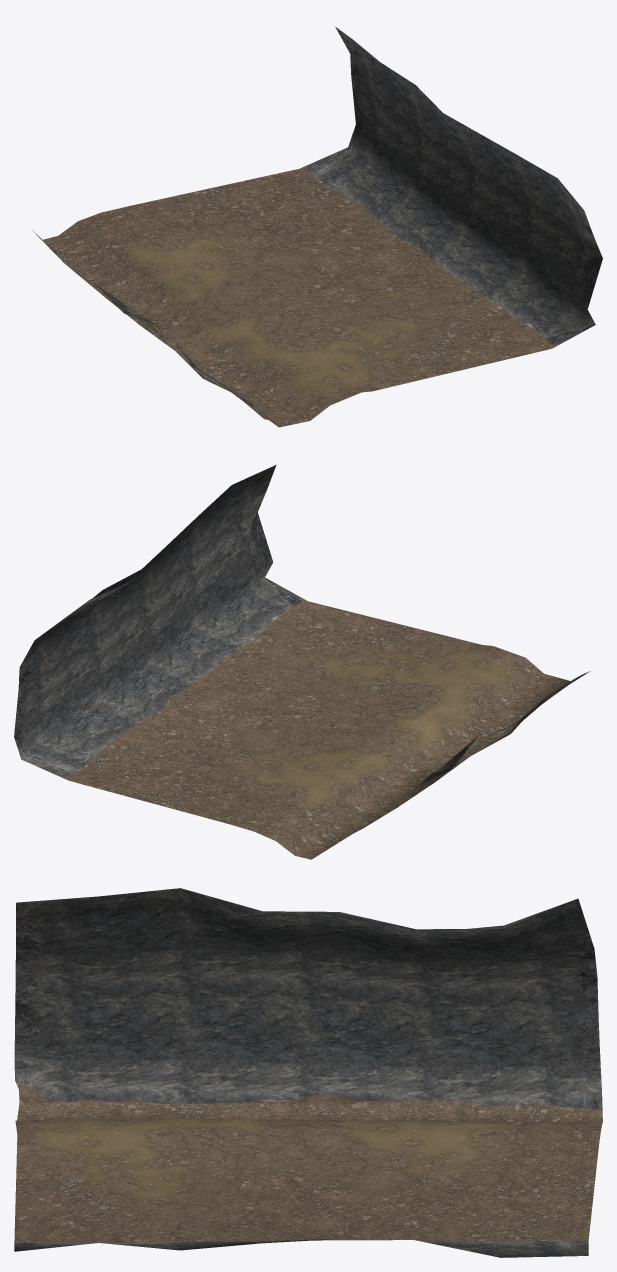
File: TunnelA5.glb
The picture shows the model from 3 angles, top to bottom: view 1: azimuth 30°, elevation 25°; view 2: azimuth 150°, elevation 25°; view 3: azimuth 270°, elevation 25°; orthographic projection. The views are drawn at different scales.
Parts seen in each view (by area): view 1: TunnelA5; view 2: TunnelA5; view 3: TunnelA5.
Boxes of the visible parts, x1=… form: TunnelA5: x1=32, y1=26, x2=602, y2=427; TunnelA5: x1=14, y1=464, x2=590, y2=859; TunnelA5: x1=14, y1=888, x2=602, y2=1257.
Bounding box in the file's own units: 4.33 × 2.43 × 5.42.
Materials: 1 (1 with a texture image).
